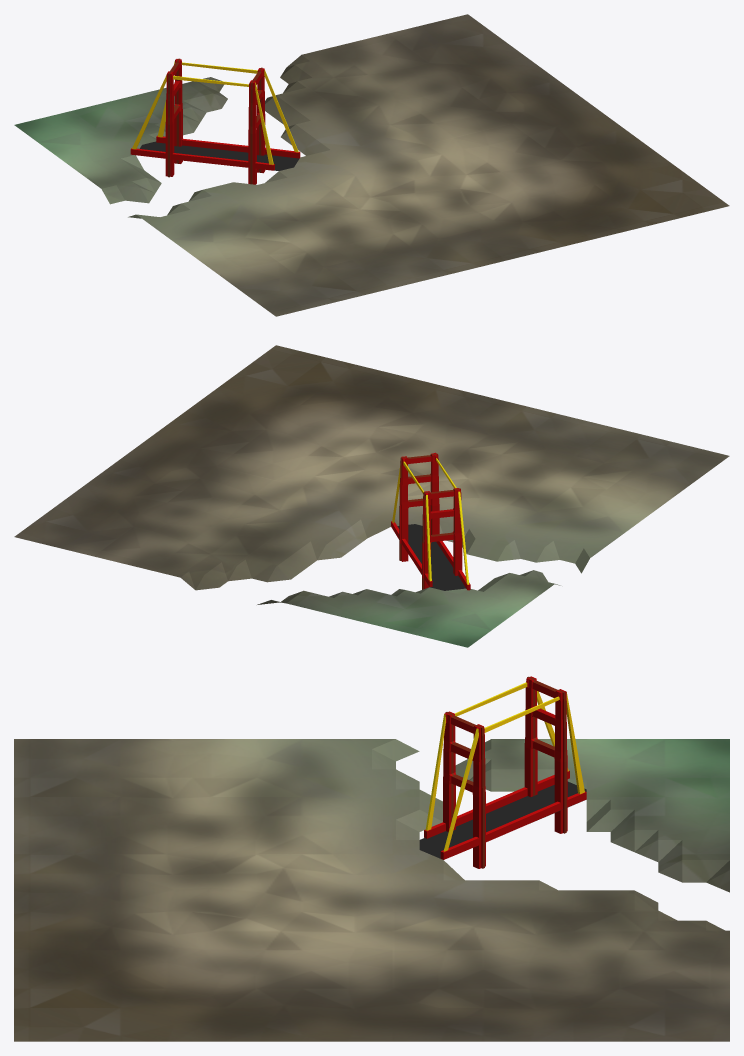
File: ground_4.fbx
3 views of the same model, one above another, from view 1: azimuth 30°, elevation 25°; view 2: azimuth 150°, elevation 25°; view 3: azimuth 270°, elevation 25° (orthographic). The views are drawn at different scales.
Visible parts, largest first — view 1: ground.000; view 2: ground.000; view 3: ground.000.
Part boxes in pixels (box(x1,y1,x2,y2)): ground.000: box(14, 14, 729, 316); ground.000: box(14, 345, 729, 647); ground.000: box(14, 676, 729, 1041).
Bounding box in the file's own units: 5902 × 1273 × 5902.
